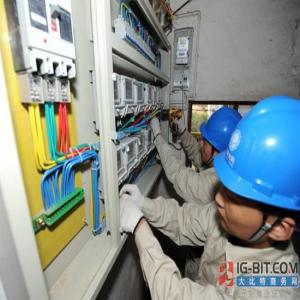blue: (216, 95, 300, 250), (199, 107, 242, 166)
